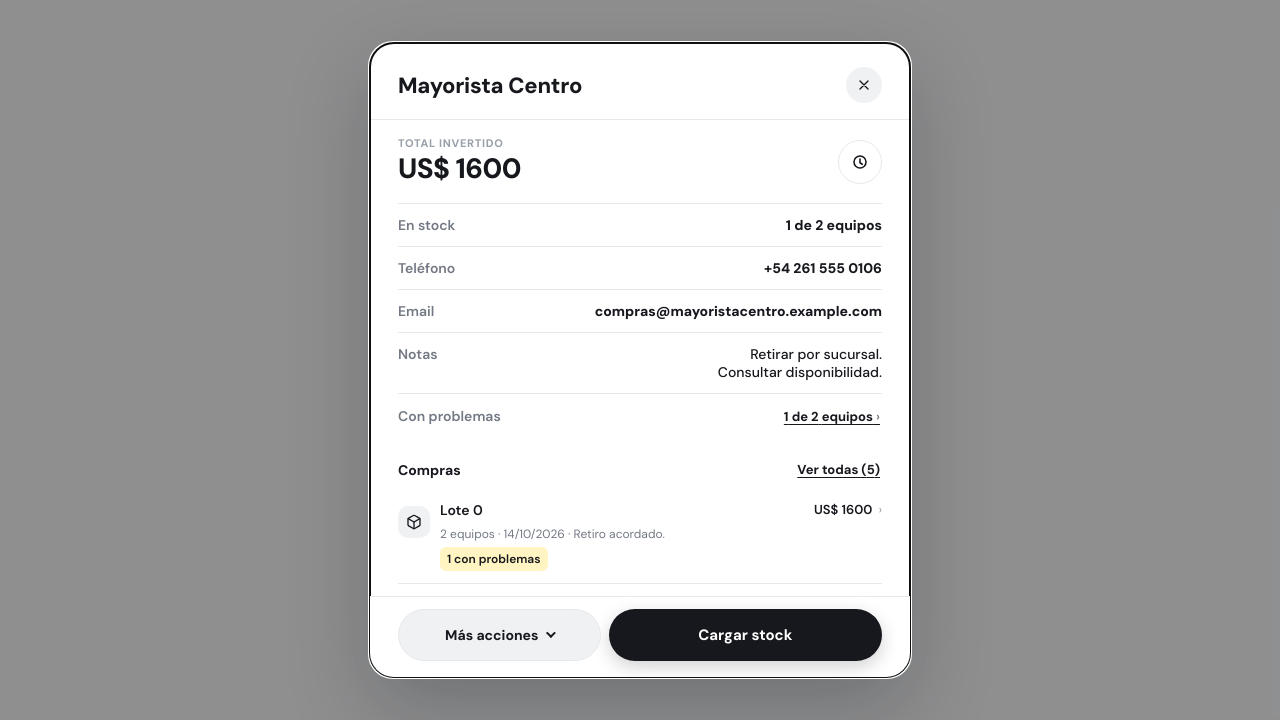
Test case: ficha de proveedor › shows Ver todas only above three purchases (5)
The width and height of the screenshot is (1280, 720).
Expected: the element with test id "supplier-detail" is shown, [398,136,882,596]
Click the button "Ver todas (5)" at coordinates (839, 470), box [795,459,882,480]
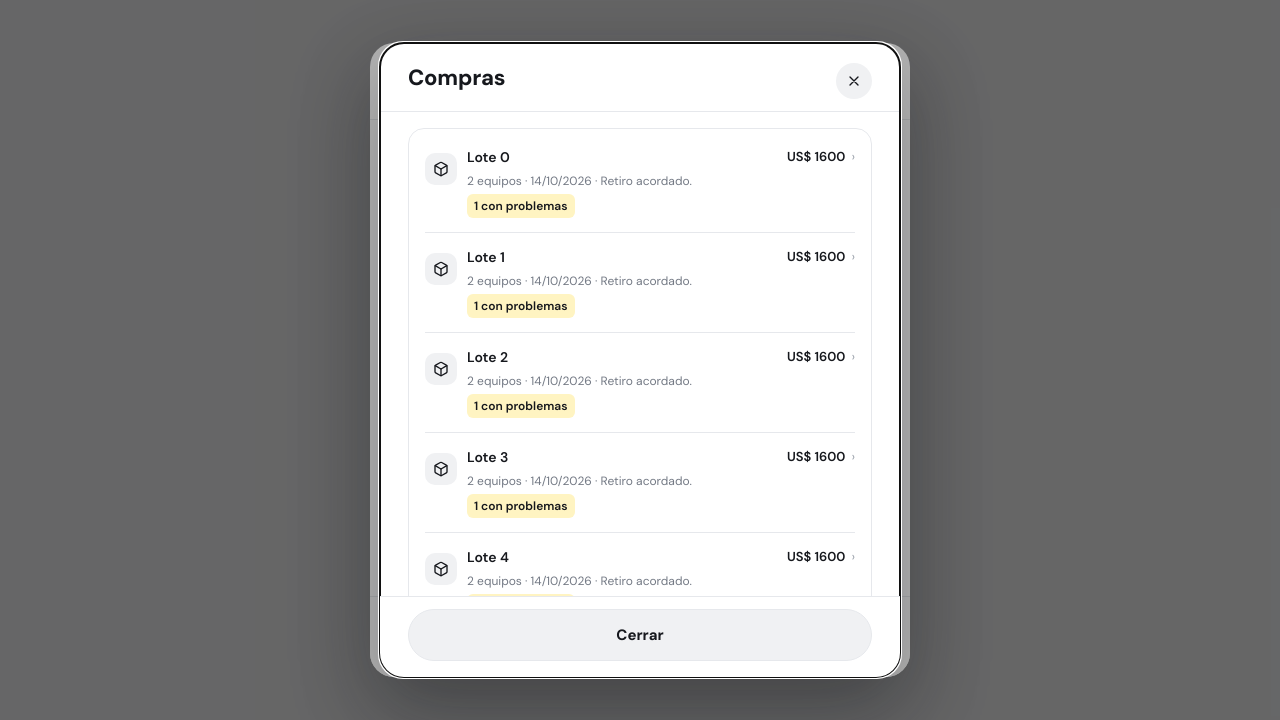
Expected: the number of buttons "Lote" is 5, [425,133,855,232]; [425,232,855,332]; [425,332,855,432]; [425,432,855,532]; [425,532,855,596]
Click the button "Lote 4" at coordinates (640, 582), box [425,532,855,632]
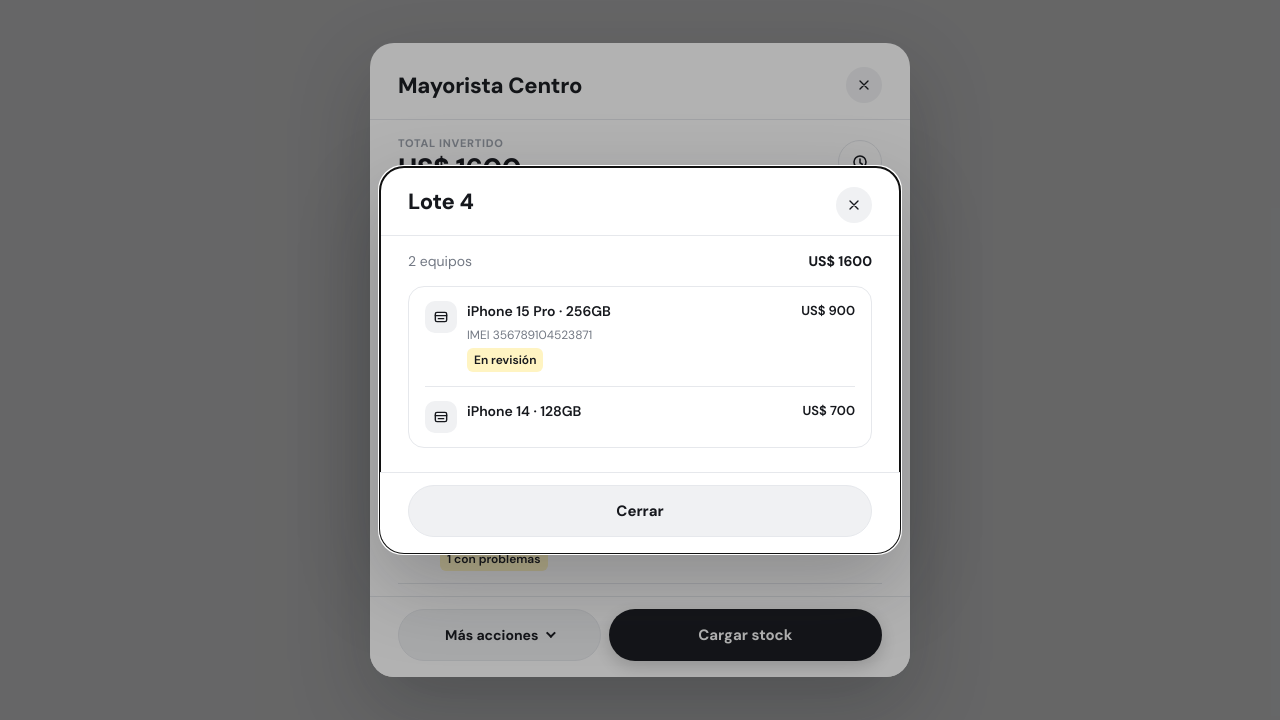
Expected: the dialog "Lote 4" is shown, [380,167,900,553]
Press Escape
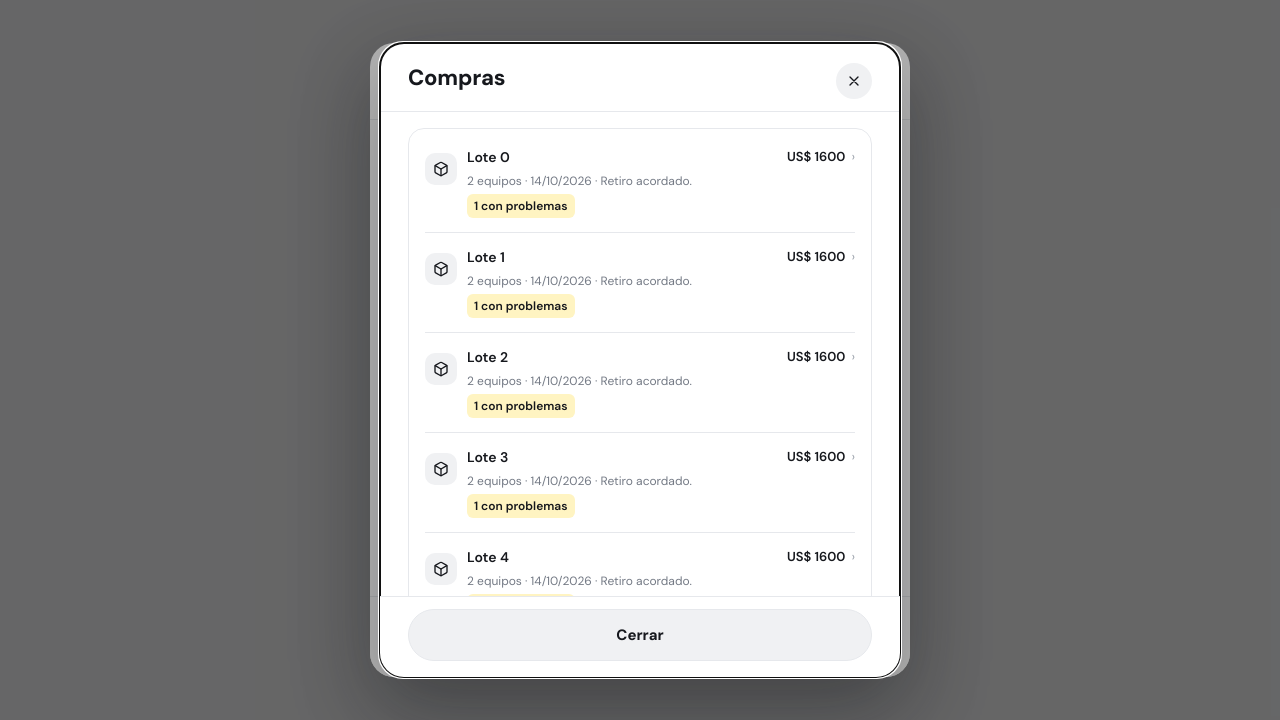
Expected: the dialog "Compras" is shown, [380,43,900,677]
